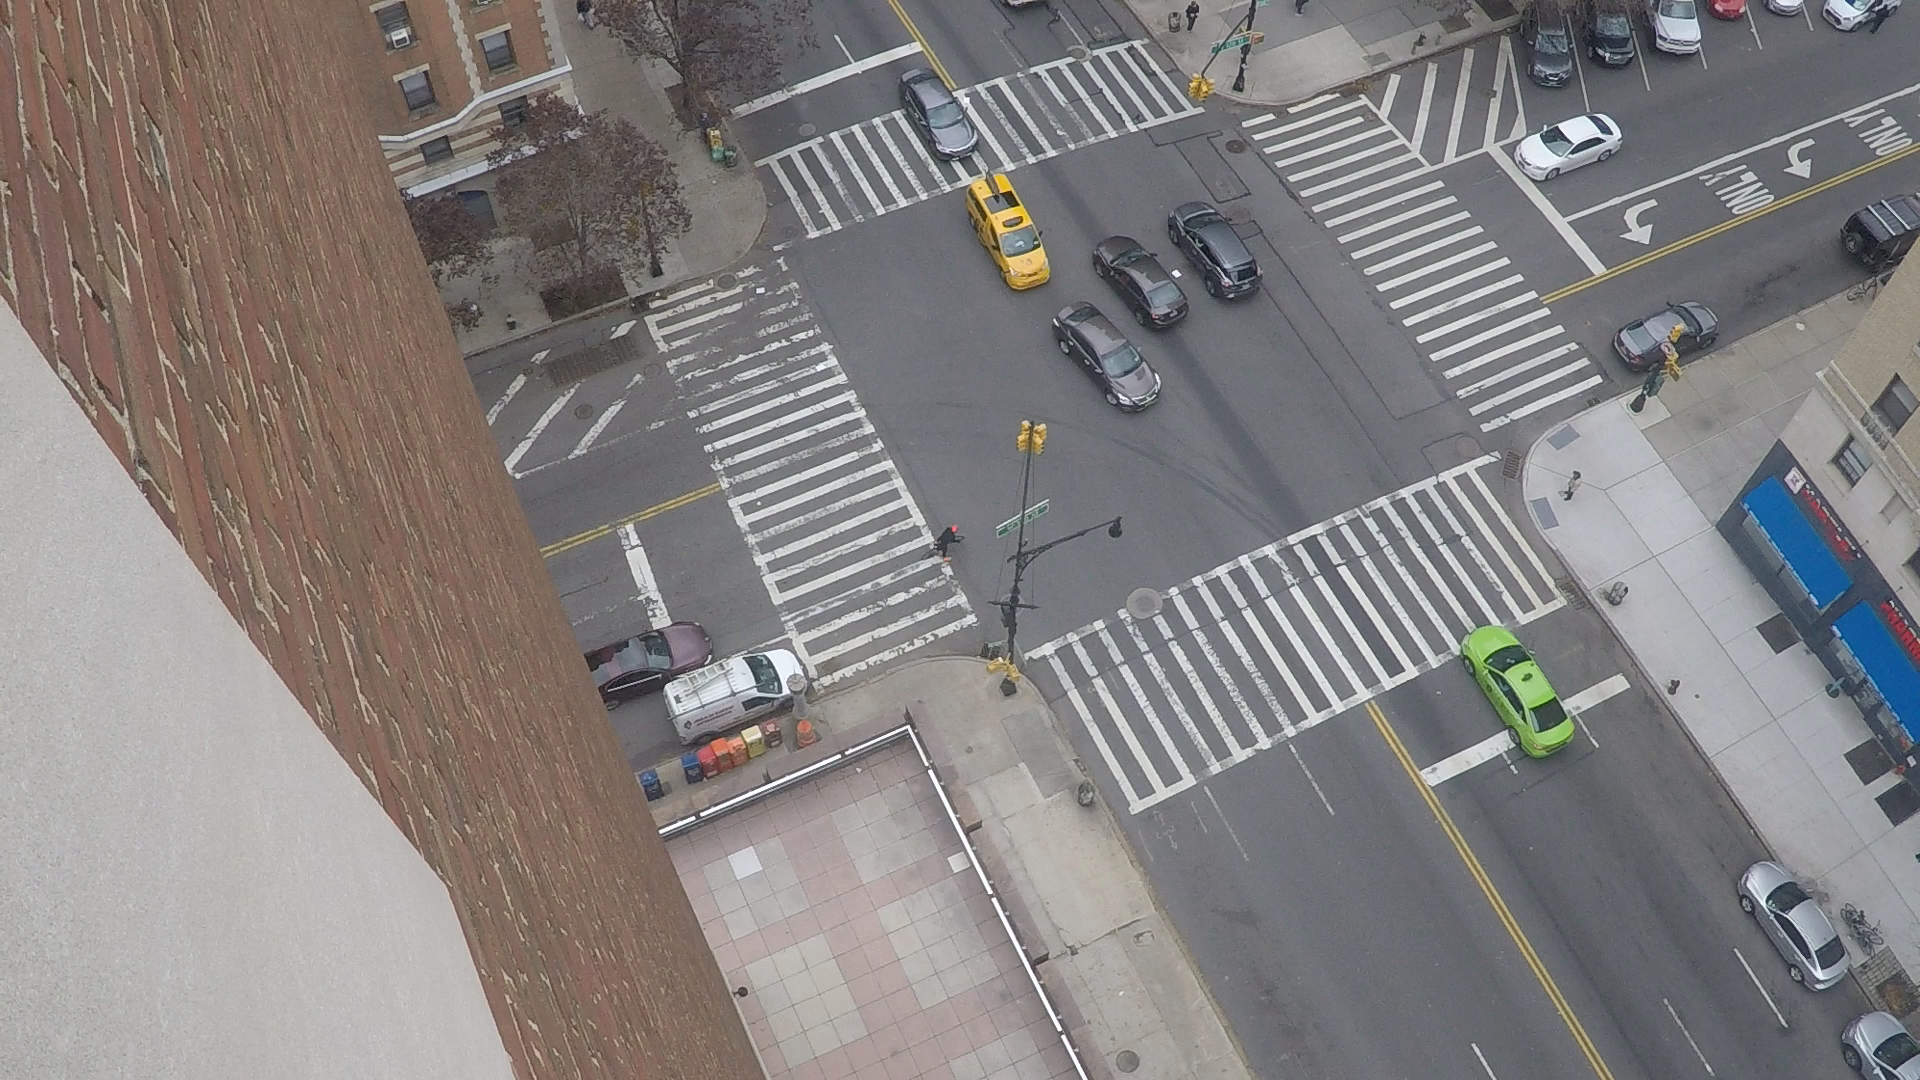Car: (1634, 0, 1642, 16), (1760, 0, 1764, 5), (902, 105, 905, 112), (1704, 0, 1705, 7)
